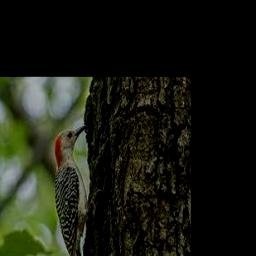Woodpecker: (55, 125, 104, 256)
